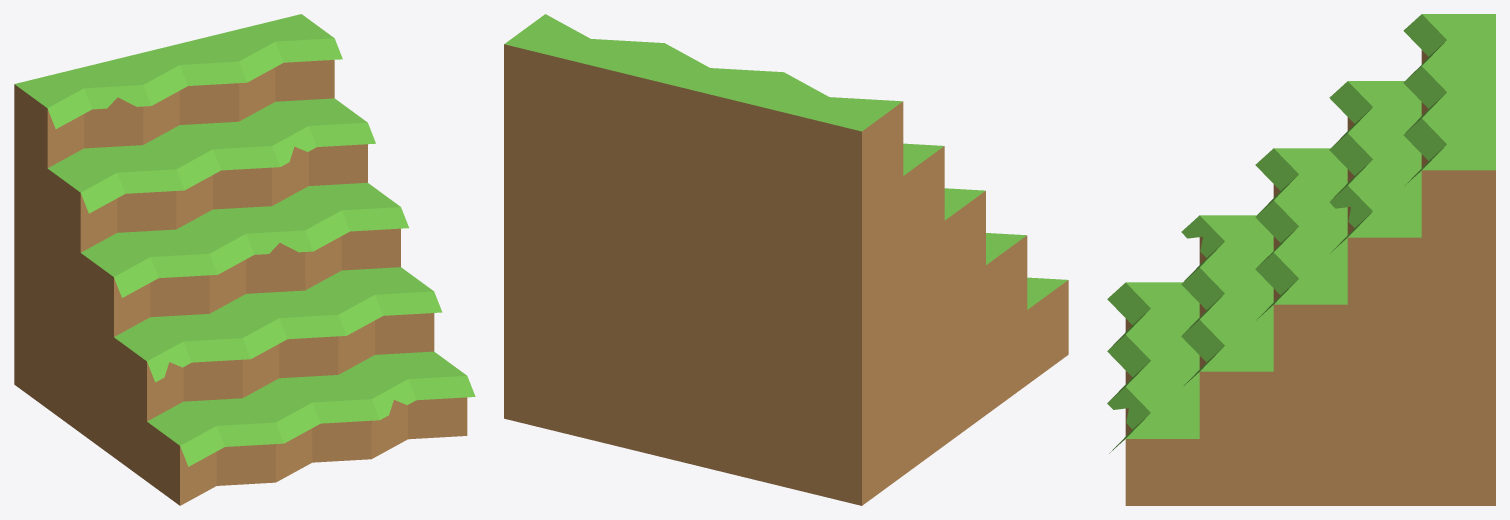
Rendered from cliff-steps.glb.
The picture shows the model from 3 angles, left to right: view 1: azimuth 30°, elevation 25°; view 2: azimuth 150°, elevation 25°; view 3: azimuth 270°, elevation 25°; orthographic projection. The views are drawn at different scales.
Parts seen in each view (by area): view 1: cliff_steps_rock; view 2: cliff_steps_rock; view 3: cliff_steps_rock.
Boxes of the visible parts, <box> form: cliff_steps_rock: <box>14,14,475,505</box>; cliff_steps_rock: <box>504,14,1068,505</box>; cliff_steps_rock: <box>1107,14,1495,505</box>.
Bounding box in the file's own units: 4 × 4 × 4.2.
